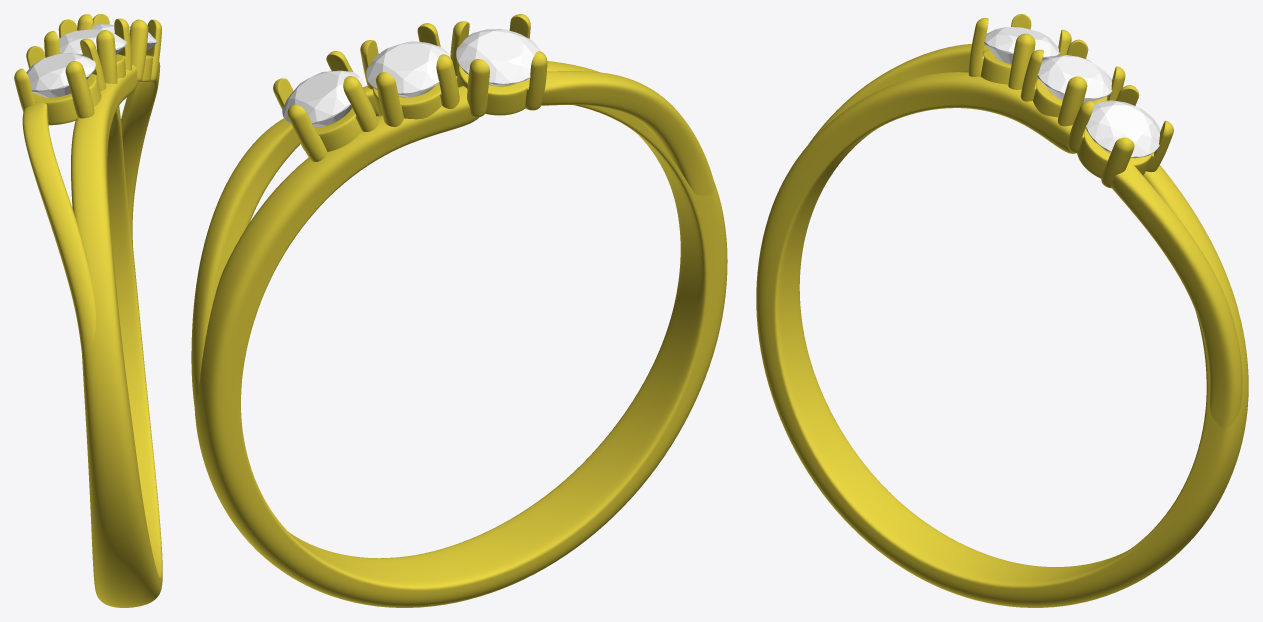
The model's file is diamond_ring.glb.
The picture shows the model from 3 angles, left to right: view 1: azimuth 30°, elevation 25°; view 2: azimuth 150°, elevation 25°; view 3: azimuth 270°, elevation 25°; orthographic projection. The views are drawn at different scales.
Visible parts, largest first — view 1: OBJ; view 2: OBJ; view 3: OBJ.
Boxes of the visible parts, x1,y1,x2,y2 form: OBJ: [14, 14, 162, 607]; OBJ: [191, 14, 727, 607]; OBJ: [756, 14, 1248, 607].
Size of the model in its own units: 10.79 by 20.9 by 16.95.
